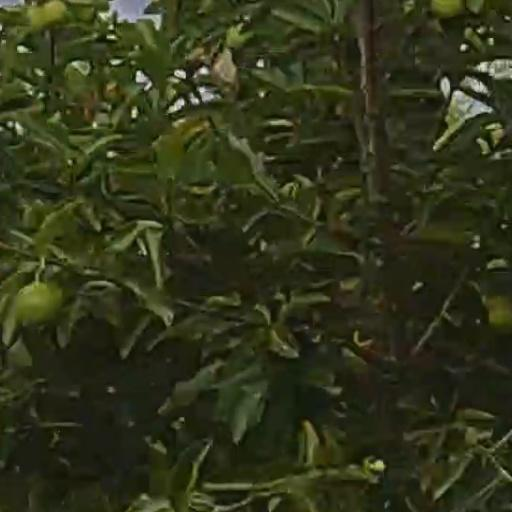acerola_verde: (18, 283, 63, 327)
